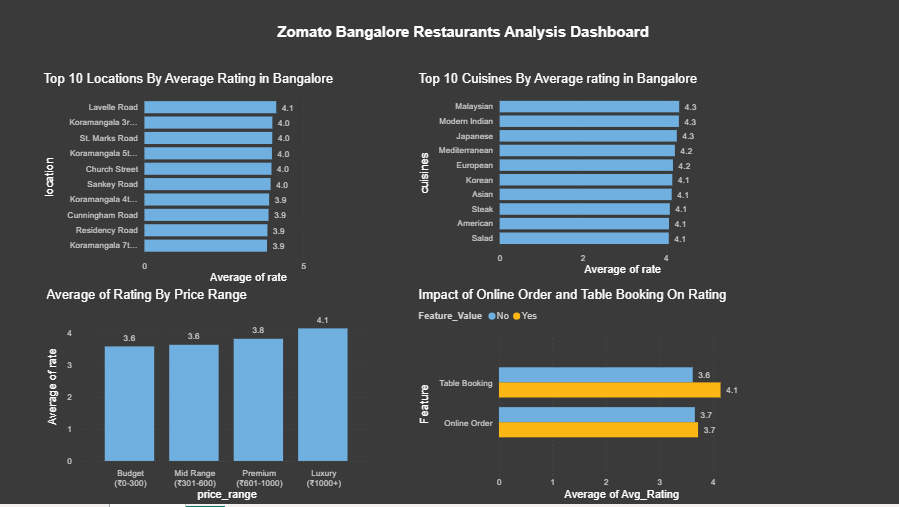

This screenshot's page, from the dashboard's own definition file:
{"tool":"powerbi","page":{"name":"Page 1","canvas":[1280,720],"ordinal":0},"visuals":[{"type":"clusteredBarChart","title":"Top 10 Locations By Average Rating in Bangalore","fields":{"Category":["zomato_cleaned.location"],"Y":["Avg(zomato_cleaned.rate)"]},"box":[62.4,106.3,452.1,306.1],"z":0},{"type":"clusteredBarChart","title":"Top 10 Cuisines By Average rating in Bangalore","fields":{"Category":["zomato_cuisines.cuisines"],"Y":["Avg(zomato_cuisines.rate)"]},"box":[593.9,106.3,477.6,294.8],"z":1},{"type":"clusteredColumnChart","title":"Average of Rating By Price Range","fields":{"Category":["zomato_cleaned_v2.price_range"],"Y":["Avg(zomato_cleaned_v2.rate)"]},"box":[66.6,412.4,476.2,307.6],"z":2},{"type":"clusteredBarChart","title":"Impact of Online Order and Table Booking On Rating","fields":{"Category":["zomato_features.Feature"],"Y":["Avg(zomato_features.Avg_Rating)"],"Series":["zomato_features.Feature_Value"]},"box":[593.9,412.4,476.2,307.6],"z":3},{"type":"textbox","box":[1001.5,105.7,278.5,80.5],"z":4},{"type":"textbox","box":[305.3,33.6,686.1,57],"z":6}]}

Visuals, with their boxes in screenshot pixels (x1, y1, x2, y2), scaled from the page's 1280x720 canvas onto the 899x507 screenshot:
"Top 10 Locations By Average Rating in Bangalore" clusteredBarChart: region(44, 75, 361, 290)
"Top 10 Cuisines By Average rating in Bangalore" clusteredBarChart: region(417, 75, 753, 282)
"Average of Rating By Price Range" clusteredColumnChart: region(47, 290, 381, 506)
"Impact of Online Order and Table Booking On Rating" clusteredBarChart: region(417, 290, 752, 506)
textbox: region(703, 74, 898, 131)
textbox: region(214, 24, 696, 64)
